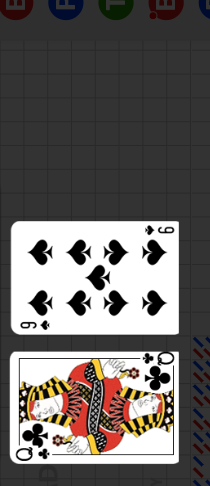9S: (143, 224, 176, 237)
QC: (132, 353, 179, 397), (12, 420, 58, 464)
